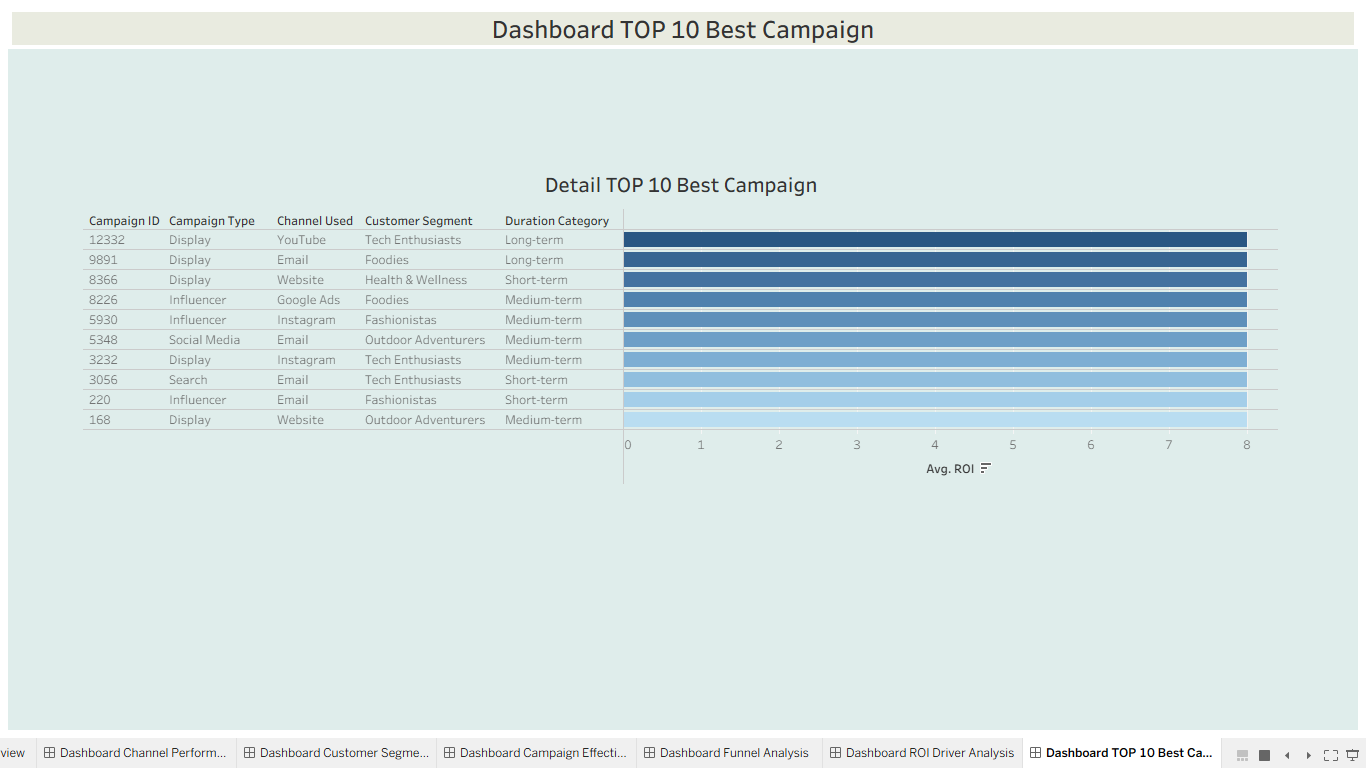

This screenshot's page, from the dashboard's own definition file:
{"tool":"tableau","page":{"name":"Dashboard TOP 10 Best Campaign","canvas":[1000,1000],"units":"permille","ordinal":6},"visuals":[{"type":"title","box":[5.9,10.8,988.3,55.6]},{"type":"worksheet","title":"Detail TOP 10 Best Campaign","mark":"Automatic","rows":["Campaign_ID","Campaign_Type","Channel_Used","Customer_Segment","Duration_Category"],"cols":["ROI"],"box":[60.6,224.7,875.3,592.9]}]}

Visuals, with their boxes on the dashboard's canvas, which has no fixed pixel size, in thousandths of its width and height (x1, y1, x2, y2). These are canvas units, not pixel positions in the 1366x768 screenshot, which may show the page scaled, cropped or inside an application window:
title: [6,11,994,66]
"Detail TOP 10 Best Campaign" worksheet: [61,225,936,818]
